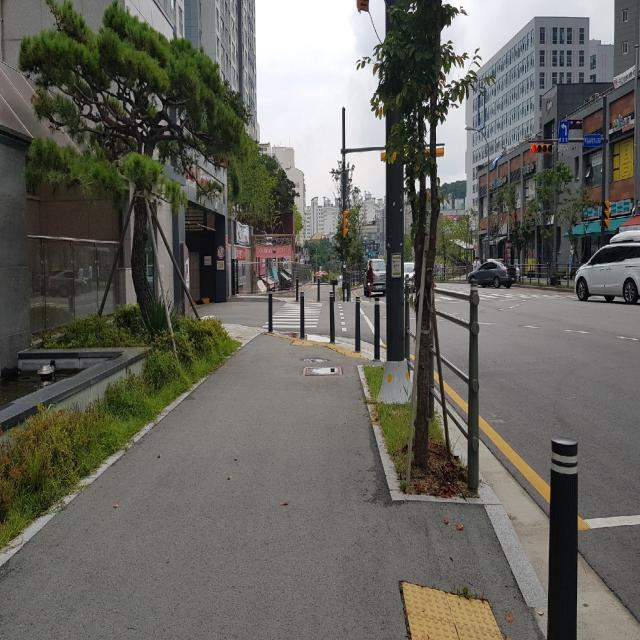횡단보도: (262, 302, 323, 328), (484, 294, 564, 298)
